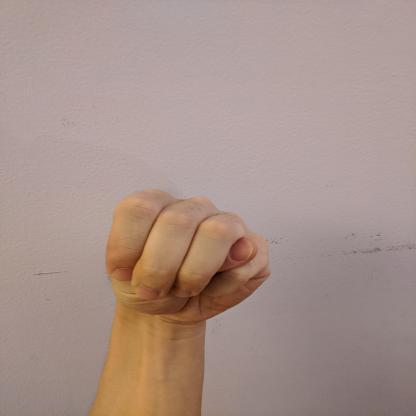M: (100, 185, 276, 324)
